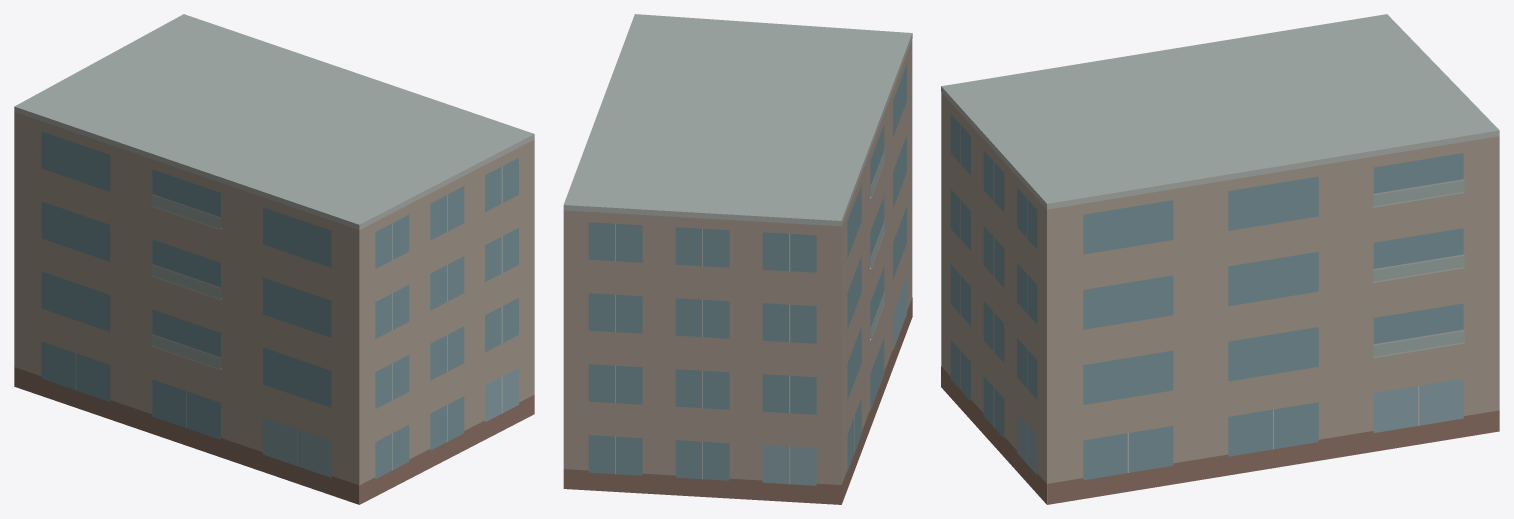
File: survey-upis-32855278.glb
The picture shows the model from 3 angles, left to right: view 1: azimuth 30°, elevation 25°; view 2: azimuth 150°, elevation 25°; view 3: azimuth 270°, elevation 25°; orthographic projection. The views are drawn at different scales.
Parts seen in each view (by area): view 1: survey-upis-32855278.tmp; view 2: survey-upis-32855278.tmp; view 3: survey-upis-32855278.tmp.
Boxes of the visible parts, bbox=[...] form: survey-upis-32855278.tmp: bbox=[14, 14, 534, 504]; survey-upis-32855278.tmp: bbox=[563, 14, 912, 504]; survey-upis-32855278.tmp: bbox=[941, 14, 1499, 504].
Bounding box in the file's own units: 17.33 × 12.8 × 21.54.
